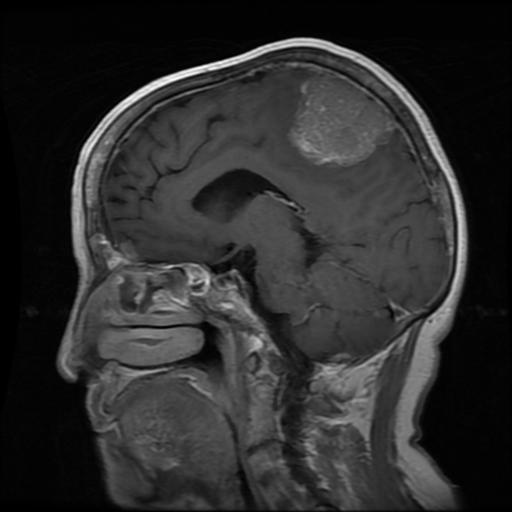Menigiomia_tumour: (287, 73, 390, 168)
